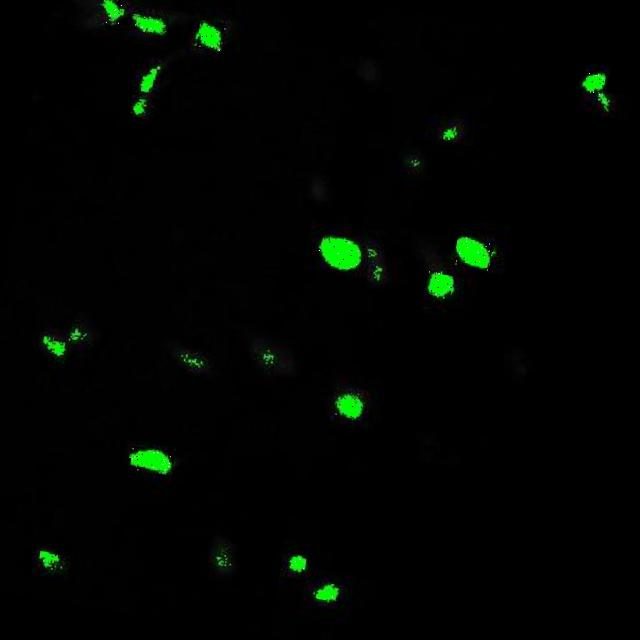Cell: (314, 230, 364, 275), (126, 442, 174, 476), (452, 233, 493, 270), (332, 388, 365, 422), (196, 18, 226, 52), (130, 11, 169, 36), (423, 270, 452, 297), (313, 580, 339, 605), (97, 0, 122, 25), (581, 70, 604, 94), (285, 555, 306, 576)
